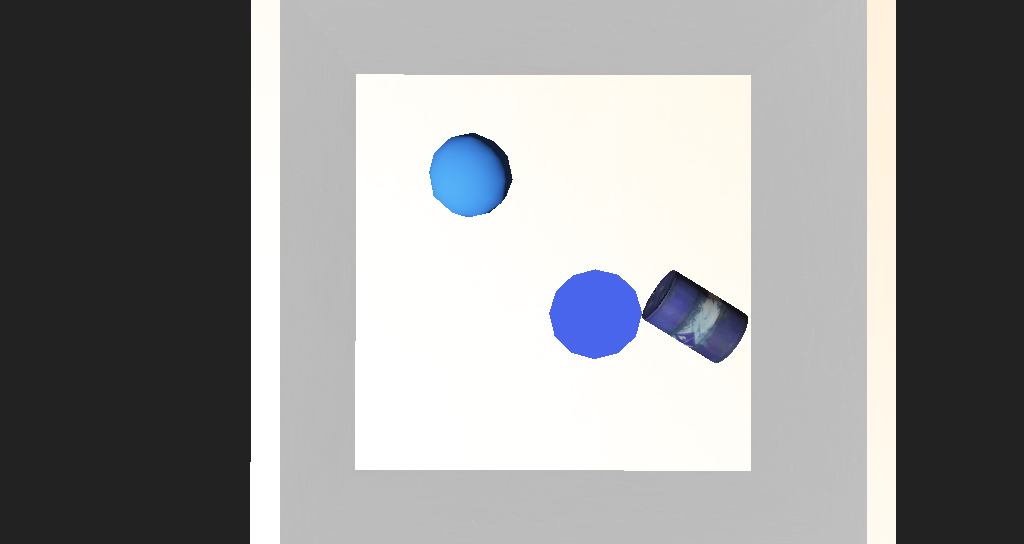cone: (573, 270, 653, 322)
cylinder: (492, 265, 586, 336)
sphere: (414, 198, 475, 241)
